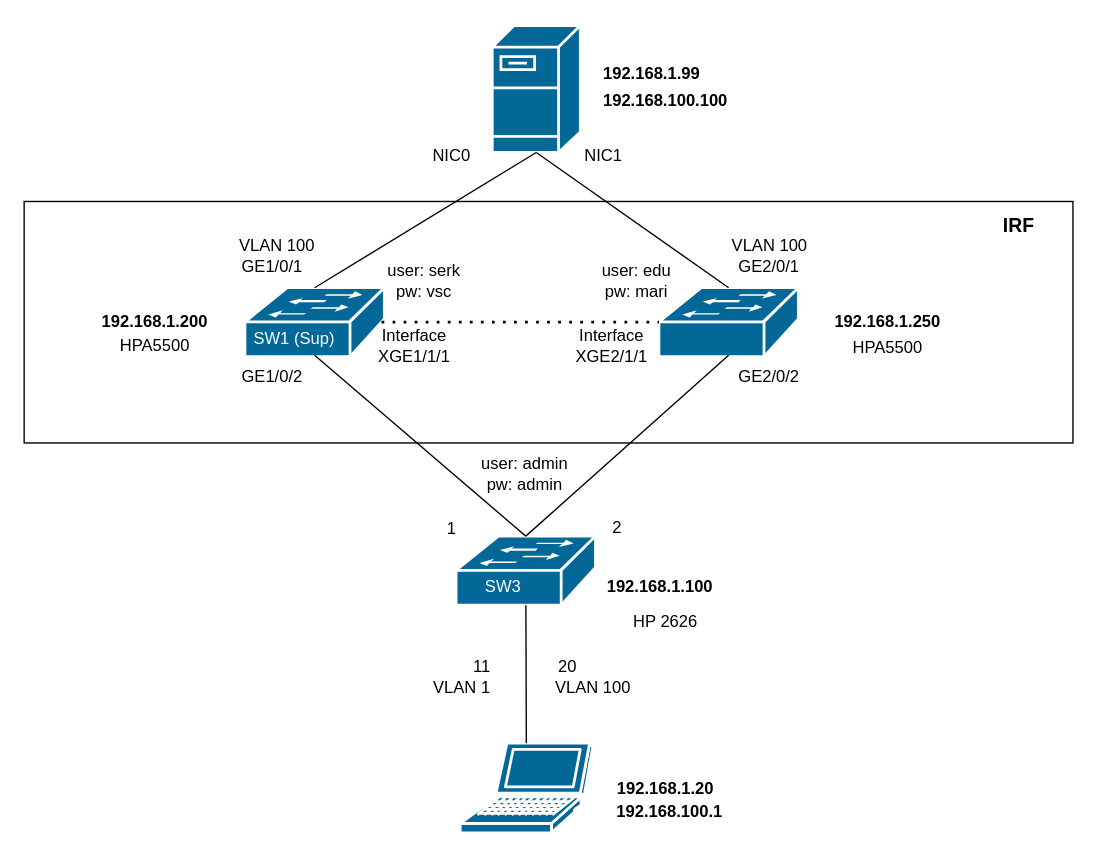
This 1097x857 diagram has some shape labels left out. The box of each missing label's shape, as (x1, y1, x2, y2) in pixels:
SV: (490, 23, 581, 153)
SW2 (Inf): (657, 286, 799, 357)
